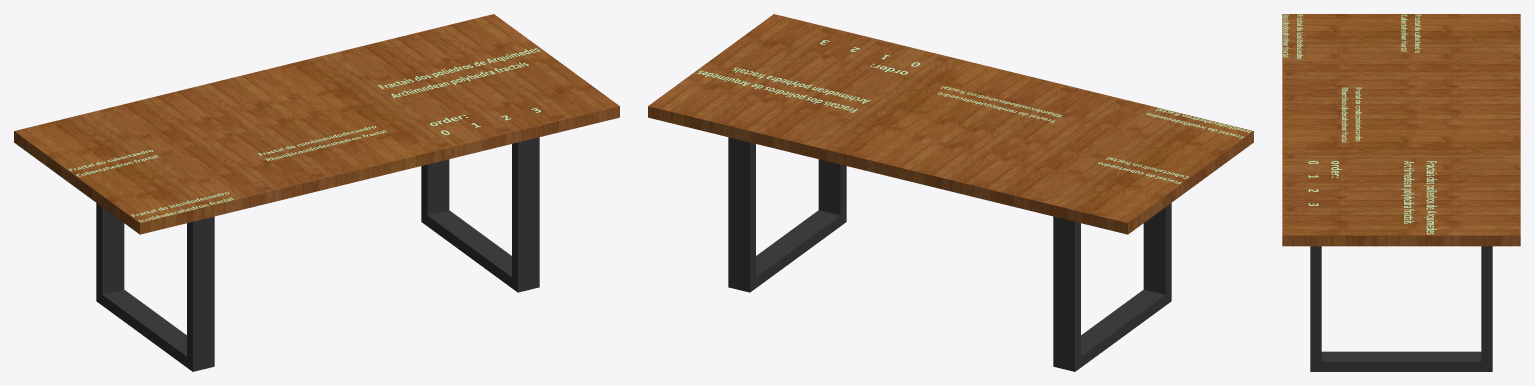
File: fractal_arquim1.glb
3 renders of one model, left to right at view 1: azimuth 30°, elevation 25°; view 2: azimuth 150°, elevation 25°; view 3: azimuth 270°, elevation 25°, orthographic. The views are drawn at different scales.
Visible parts, largest first — view 1: object 1, Composant#1 (×2), Fractais dos pol#2, Fractal do rombi#1; view 2: object 1, Composant#1 (×2), Fractais dos pol#2, Fractal do rombi#1; view 3: object 1, Composant#1, Fractais dos pol#2, Fractal do rombi#1, Fractal do icosi#1, Fractal do cuboc.
Boxes of the visible parts, <box> form: object 1: <box>14,14,619,234</box>; Composant#1 (×2): <box>96,137,539,371</box>; Fractais dos pol#2: <box>378,48,539,98</box>; Fractal do rombi#1: <box>258,126,386,160</box>; object 1: <box>648,14,1253,234</box>; Composant#1 (×2): <box>728,137,1171,371</box>; Fractais dos pol#2: <box>697,67,870,112</box>; Fractal do rombi#1: <box>938,86,1062,122</box>; object 1: <box>1282,14,1520,246</box>; Composant#1: <box>1310,246,1492,371</box>; Fractais dos pol#2: <box>1401,161,1437,234</box>; Fractal do rombi#1: <box>1341,87,1361,142</box>; Fractal do icosi#1: <box>1283,14,1303,59</box>; Fractal do cuboc: <box>1401,14,1421,52</box>.
Bounding box in the file's own units: 2.2 × 0.7711 × 1.
Materials: 3 (1 with a texture image).
